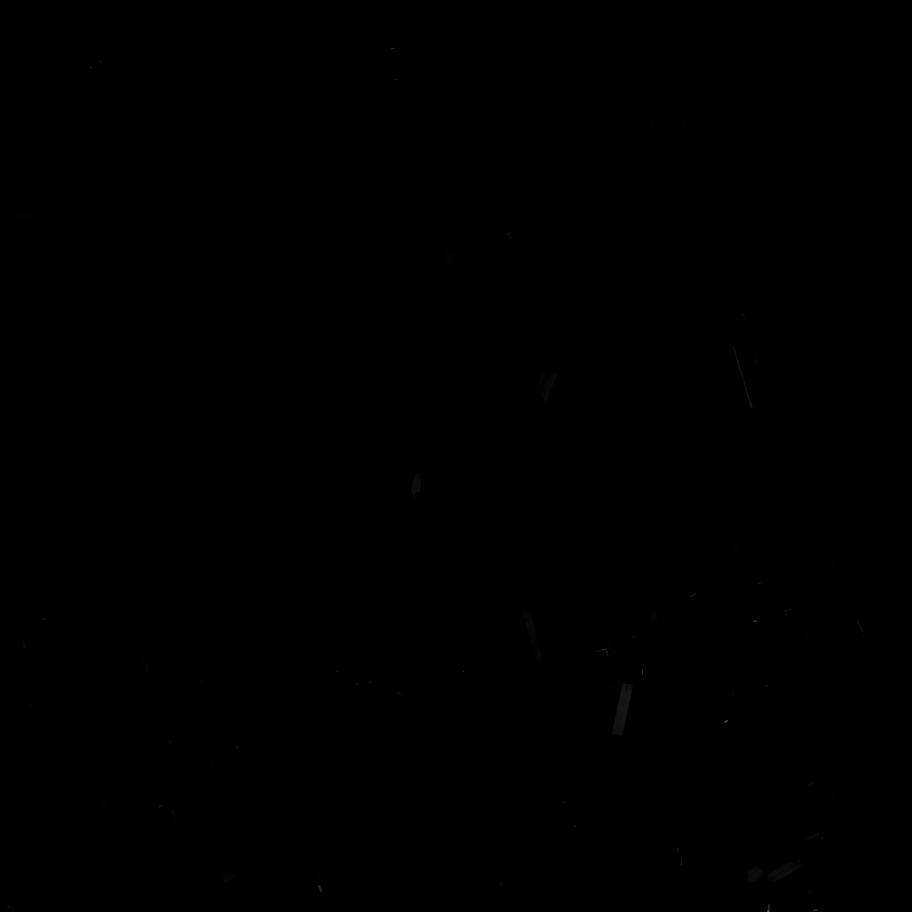plane: (13, 240, 25, 252), (23, 538, 34, 551)
